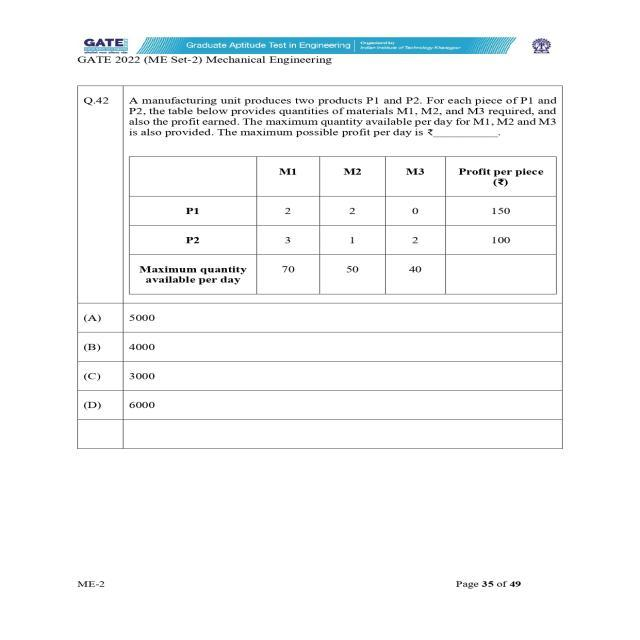Answer_Block: (74, 298, 562, 421)
Question_Answer_Block: (74, 84, 562, 422)
Question_Block: (74, 82, 562, 300)
Question_Paper_Area: (73, 51, 558, 447)
